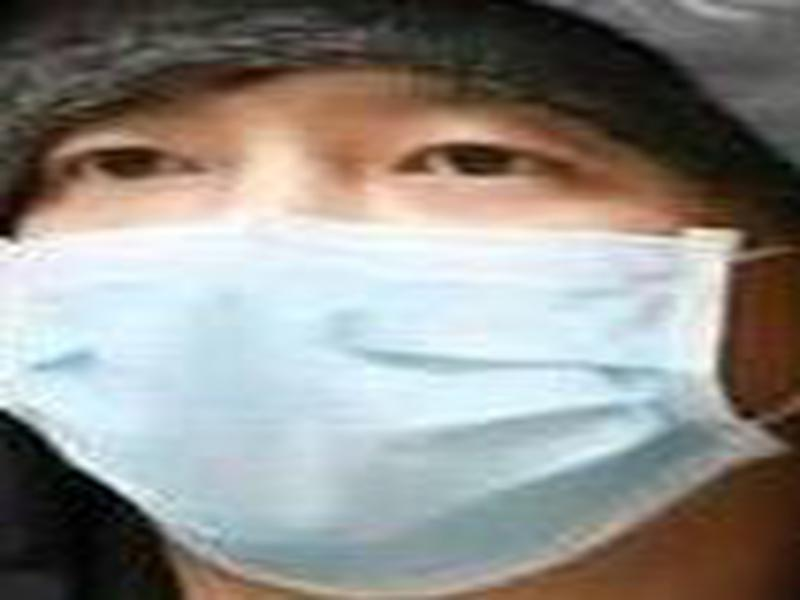with_mask: (1, 64, 791, 597)
